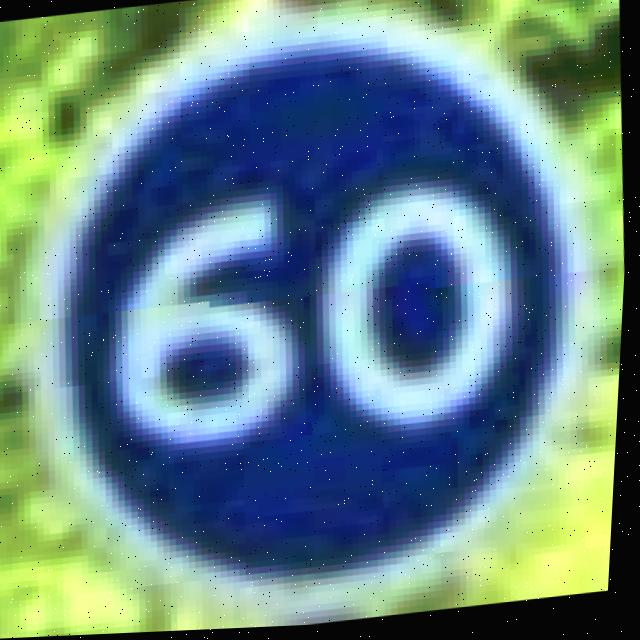min60: (0, 0, 617, 640)
